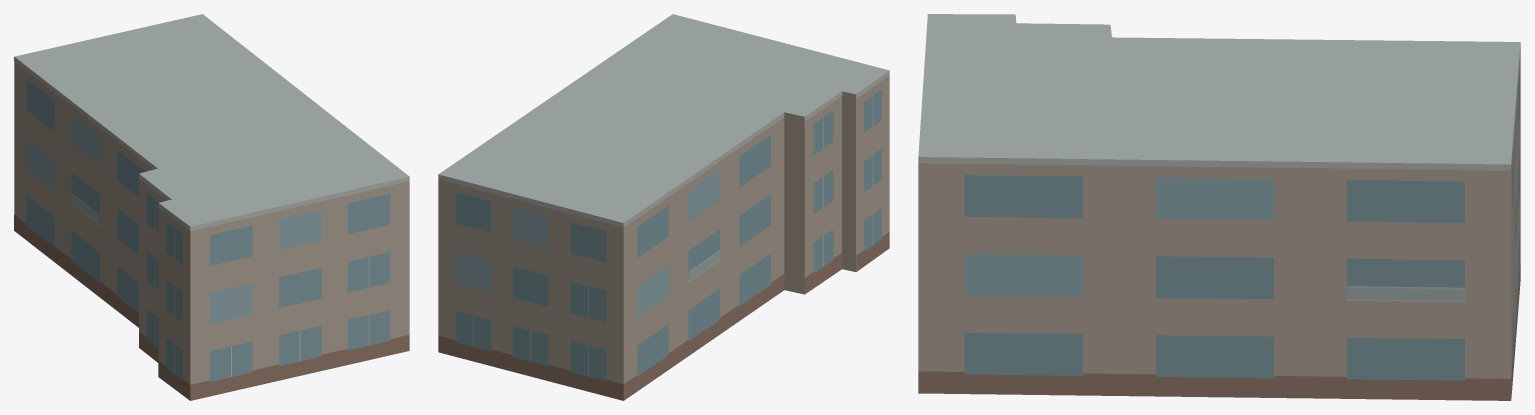
The model's file is survey-upis-32689522.glb.
3 renders of one model, left to right at view 1: azimuth 30°, elevation 25°; view 2: azimuth 150°, elevation 25°; view 3: azimuth 270°, elevation 25°, orthographic. The views are drawn at different scales.
Parts seen in each view (by area): view 1: survey-upis-32689522.tmp; view 2: survey-upis-32689522.tmp; view 3: survey-upis-32689522.tmp.
Boxes of the visible parts, x1,y1,x2,y2 form: survey-upis-32689522.tmp: [14, 14, 409, 400]; survey-upis-32689522.tmp: [438, 14, 889, 400]; survey-upis-32689522.tmp: [918, 14, 1520, 400].
Size of the model in its own units: 12.5 by 9.15 by 21.14.
